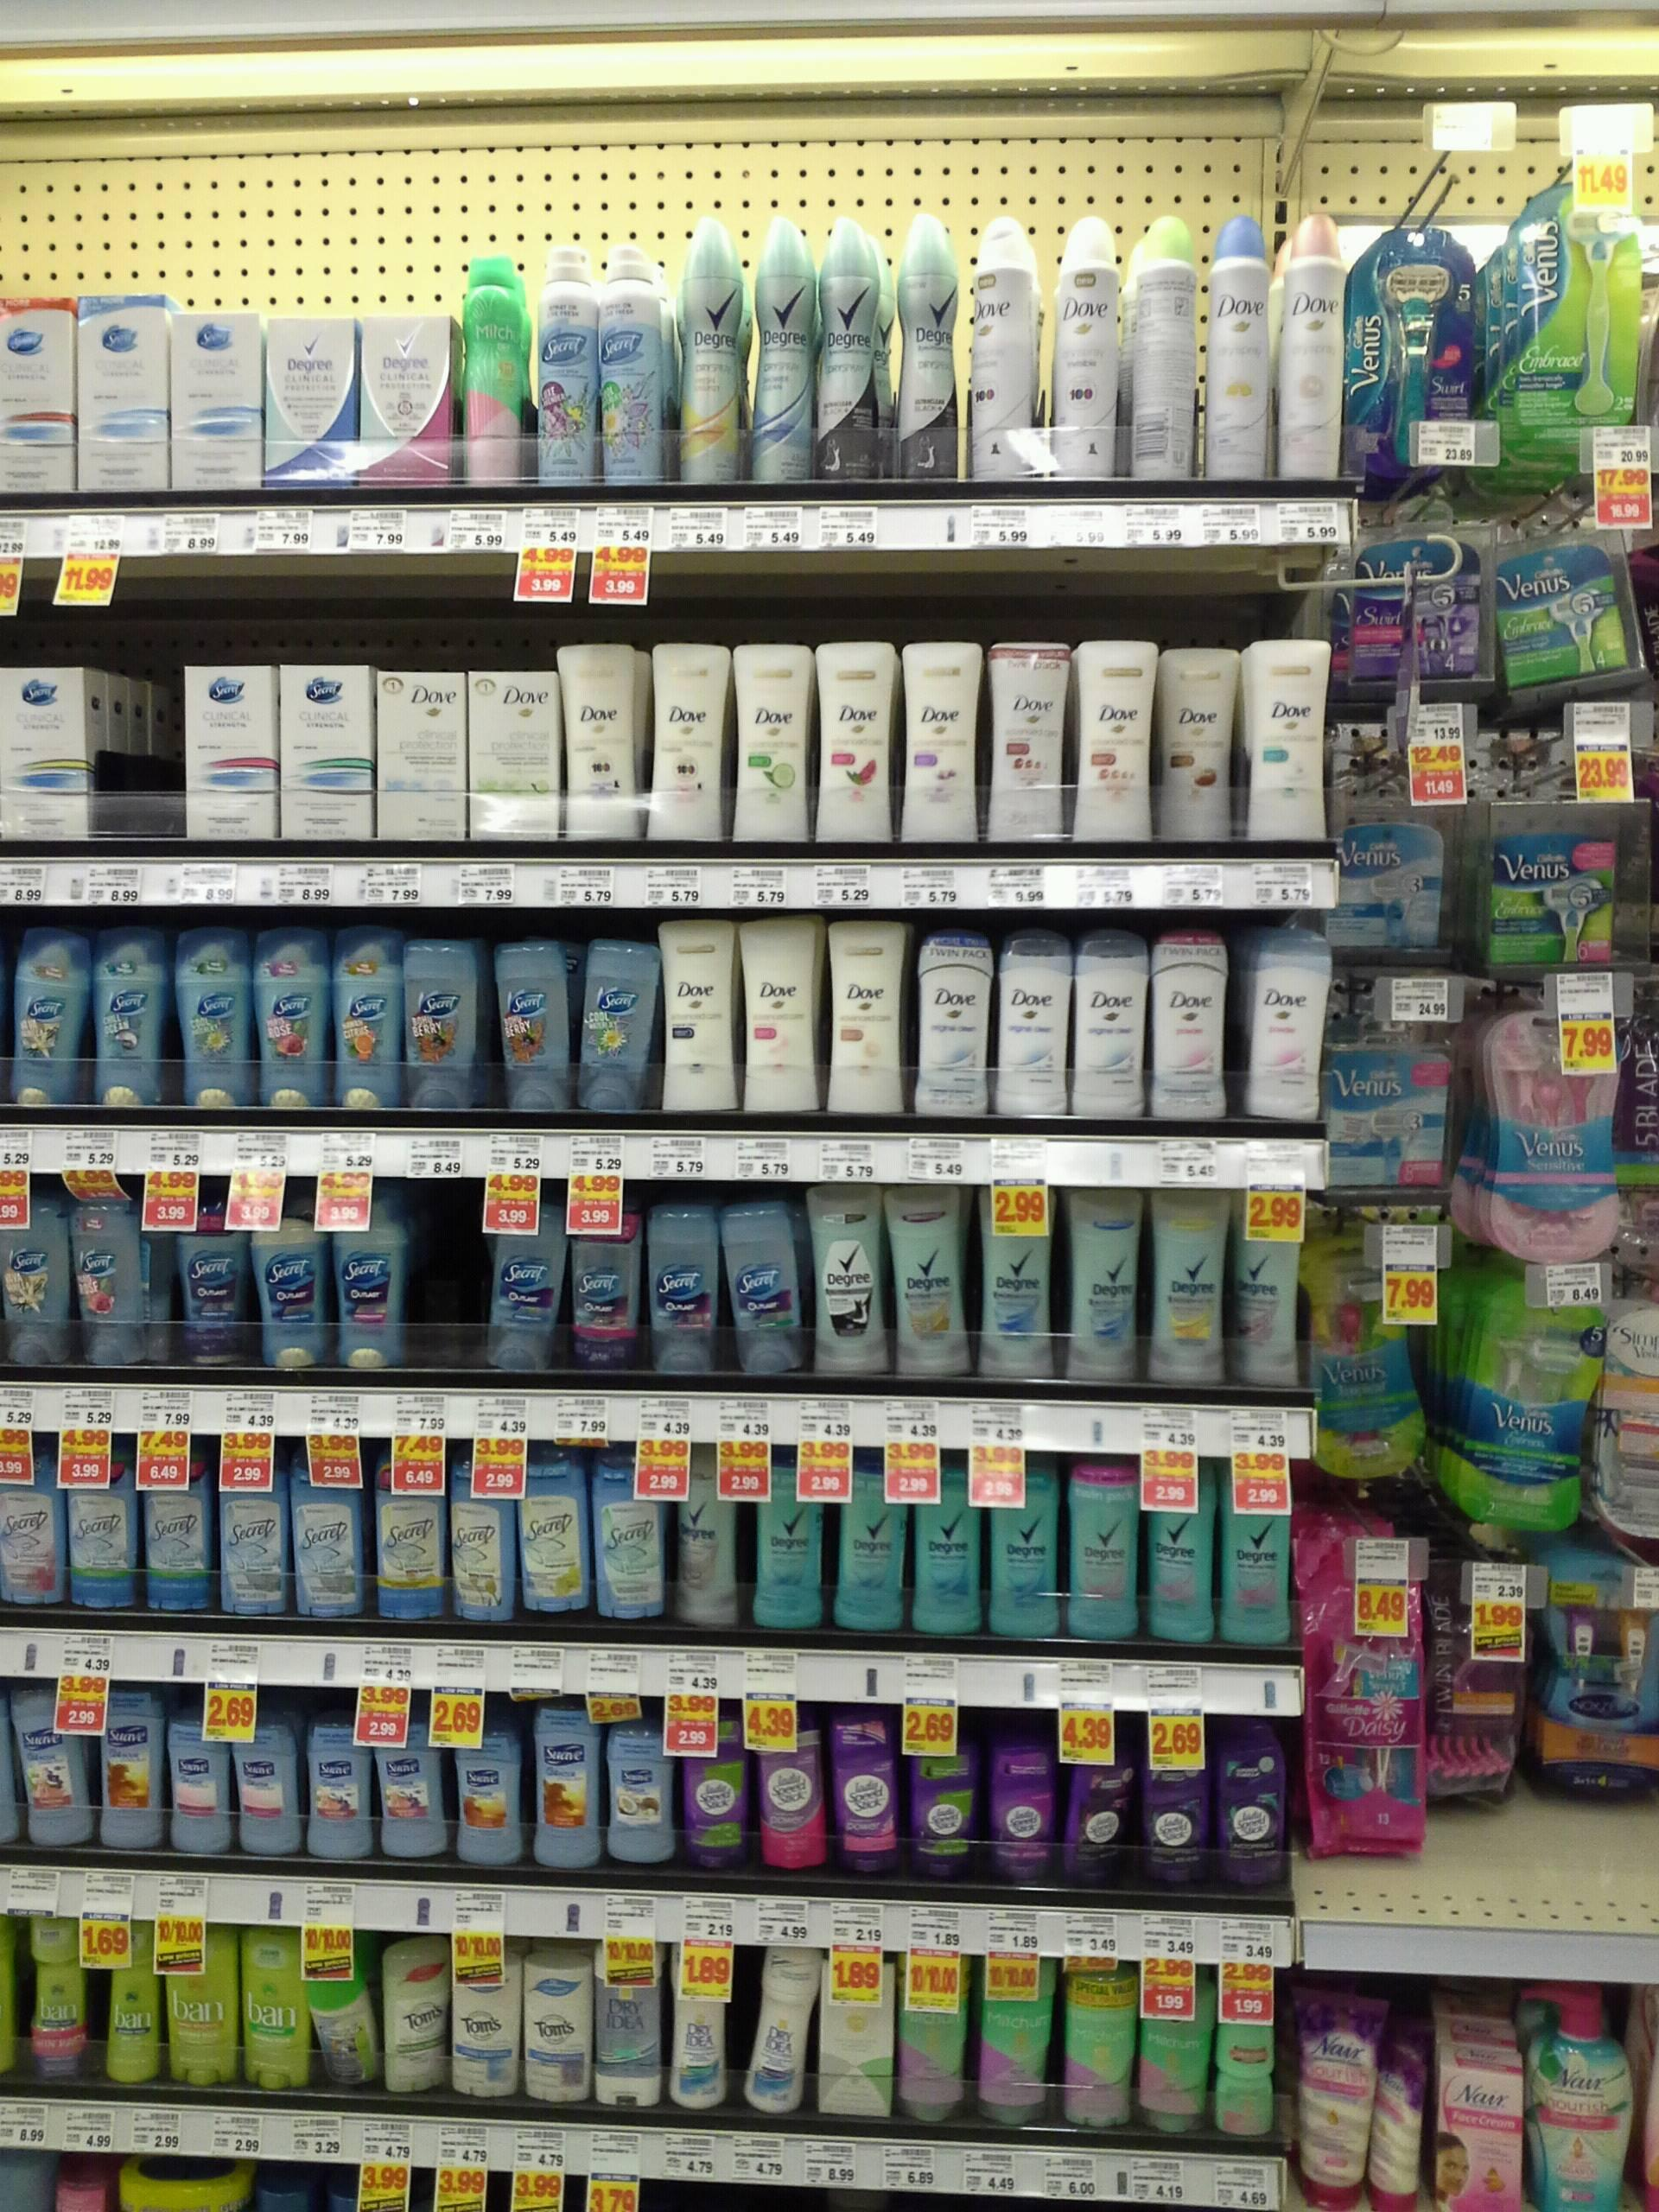empty: (103, 678, 188, 843), (401, 1204, 484, 1367)
